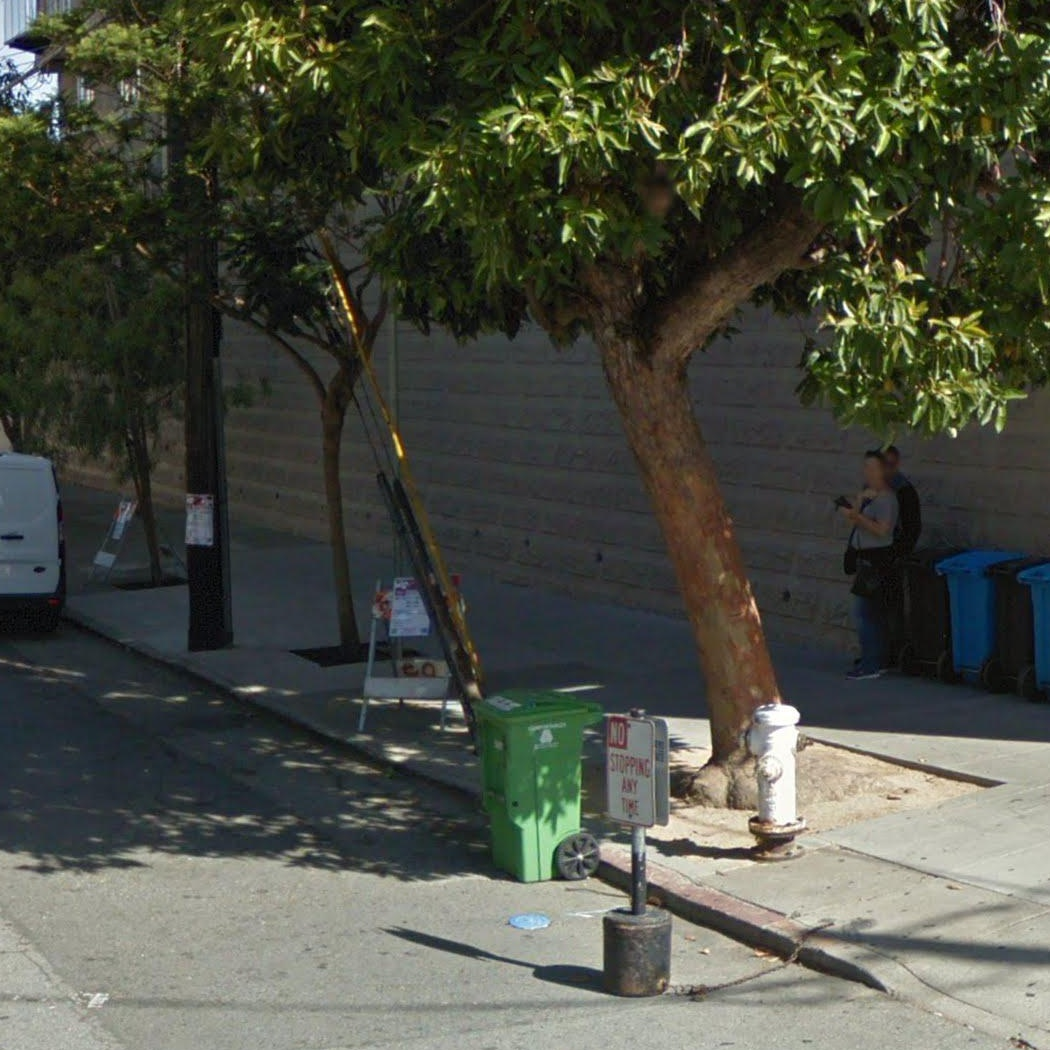No Parking Anytime: (602, 711, 657, 831)
